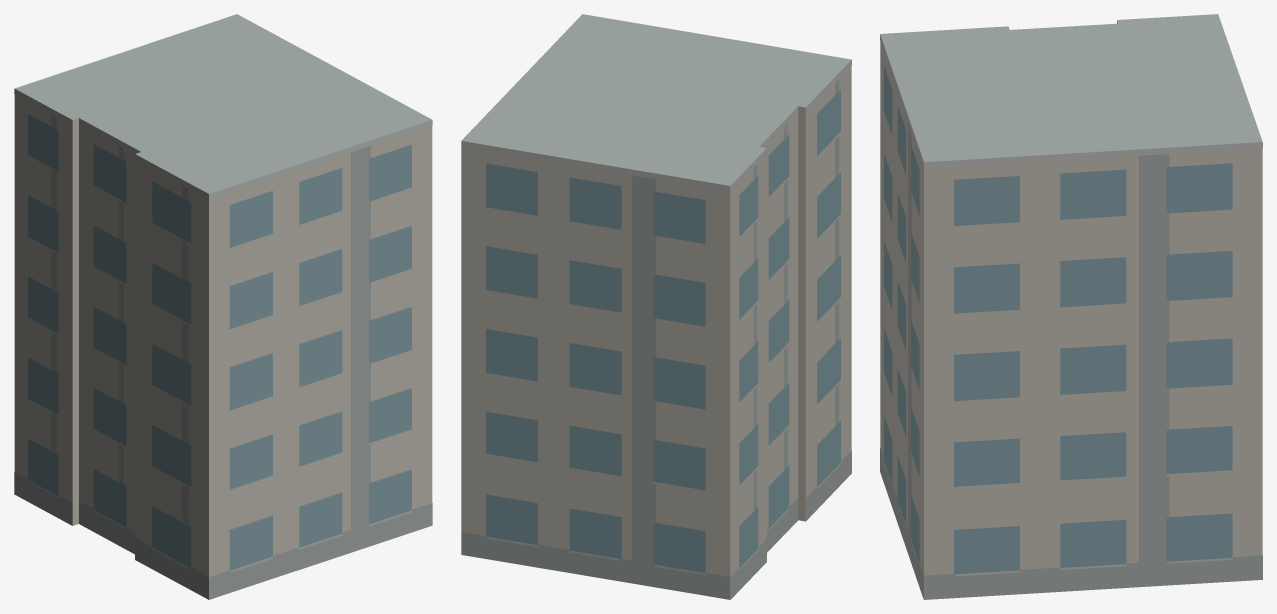
The model's file is survey-upis-32697160.glb.
The picture shows the model from 3 angles, left to right: view 1: azimuth 30°, elevation 25°; view 2: azimuth 150°, elevation 25°; view 3: azimuth 270°, elevation 25°; orthographic projection. The views are drawn at different scales.
Parts seen in each view (by area): view 1: survey-upis-32697160.tmp; view 2: survey-upis-32697160.tmp; view 3: survey-upis-32697160.tmp.
Part boxes in pixels (left/top/right/bottom): survey-upis-32697160.tmp: left=14, top=14, right=432, bottom=599; survey-upis-32697160.tmp: left=461, top=14, right=851, bottom=599; survey-upis-32697160.tmp: left=880, top=14, right=1262, bottom=599.
Size of the model in its own units: 12.21 by 16.8 by 13.32.
